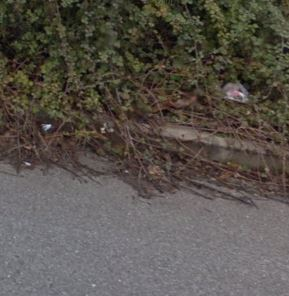trash: (214, 70, 255, 109), (37, 121, 54, 136)
